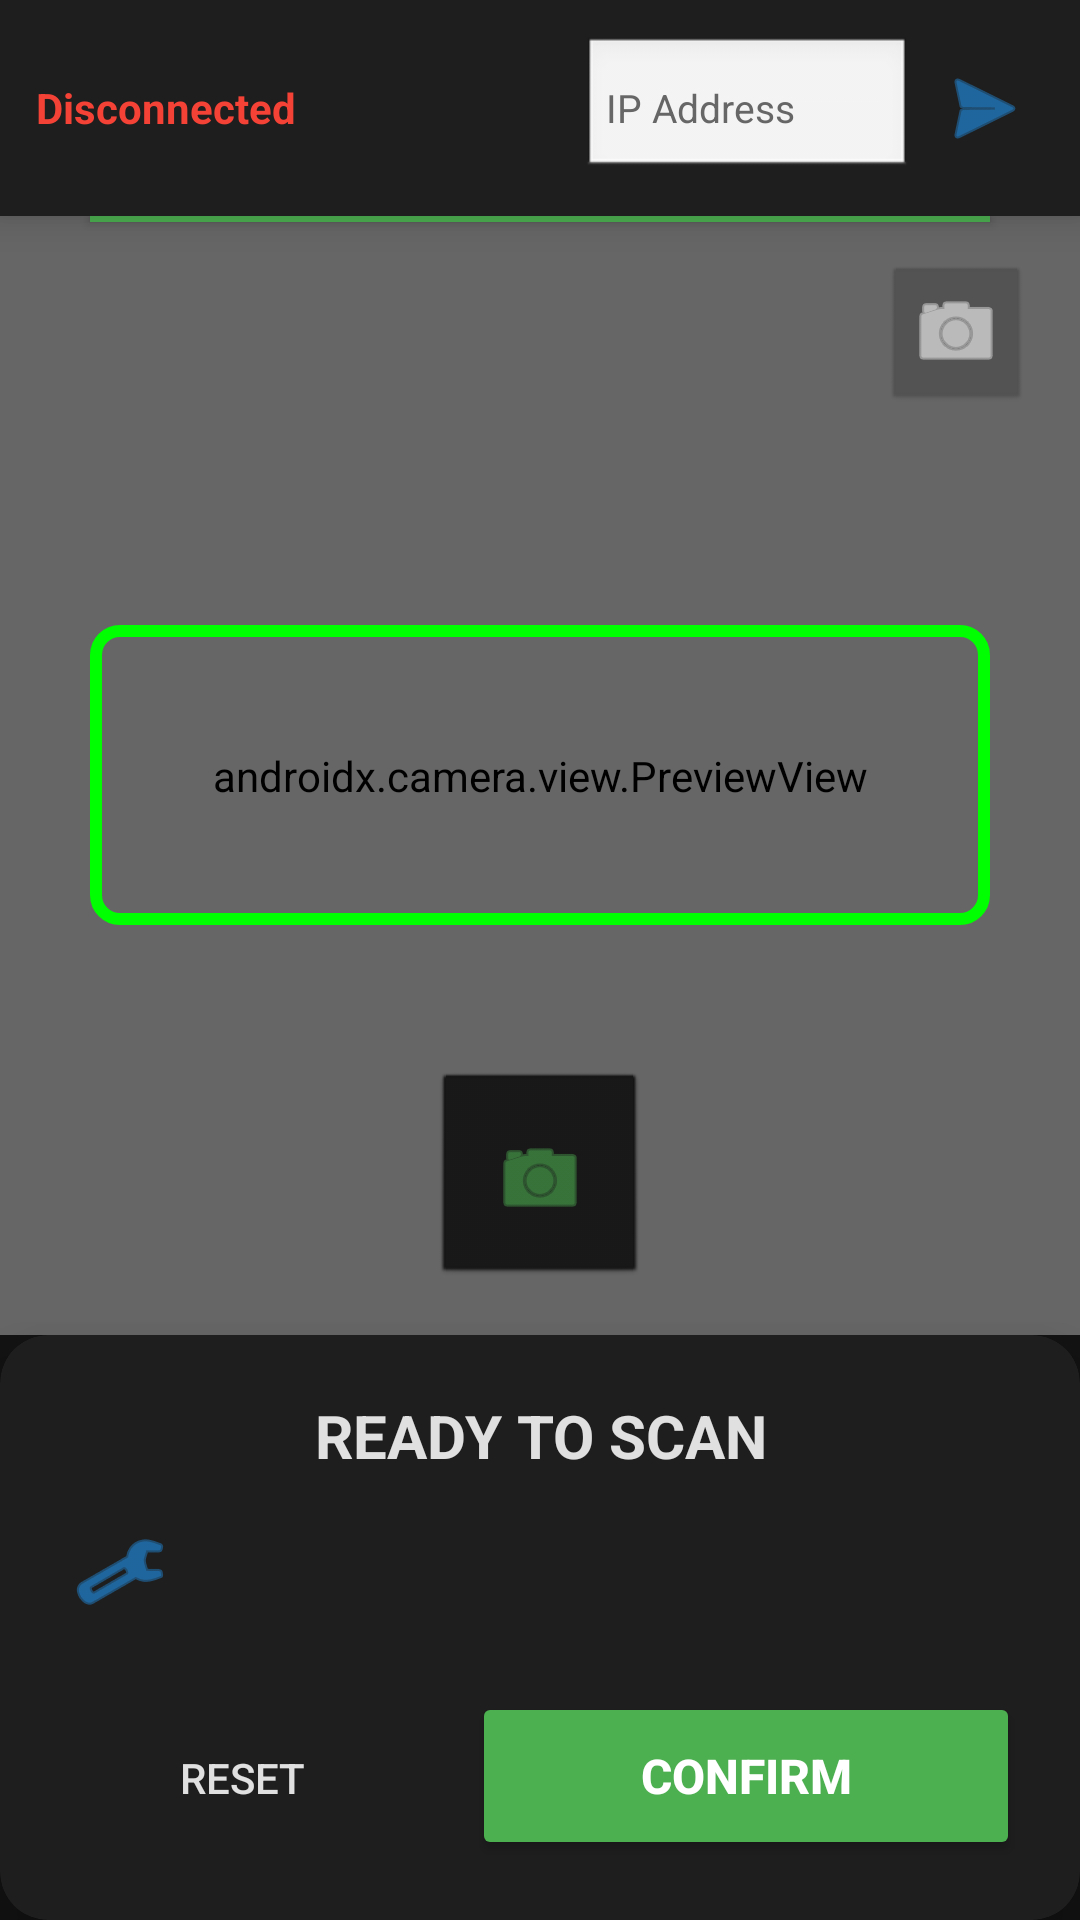

Icons on this 1080w x 1920h Android screen, each with the point to tap as point (x, y):
Capture: point (539, 1172)
manage: point (120, 1572)
